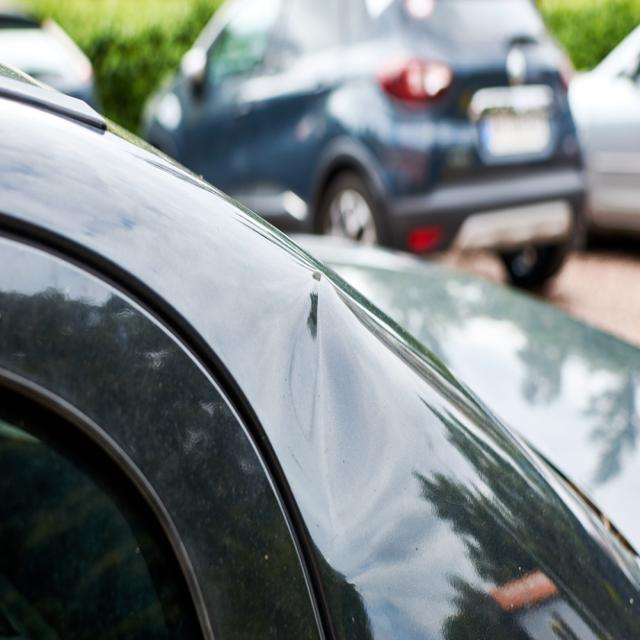dent: (275, 275, 386, 531)
